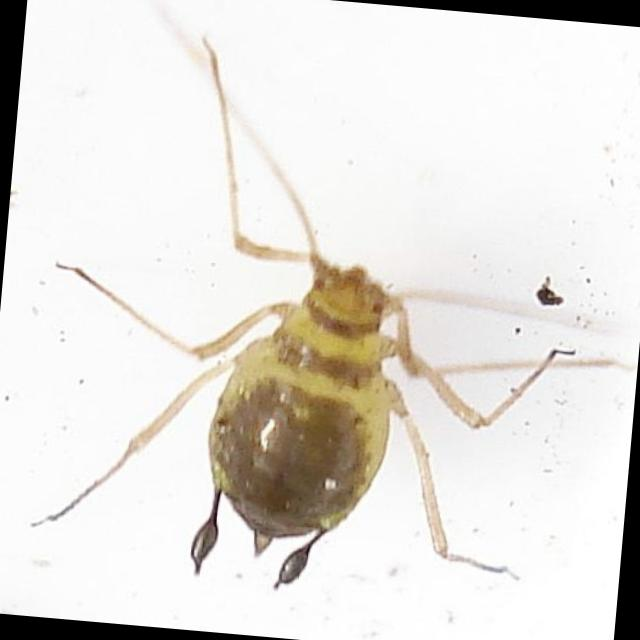Aphids: (22, 48, 616, 608)
